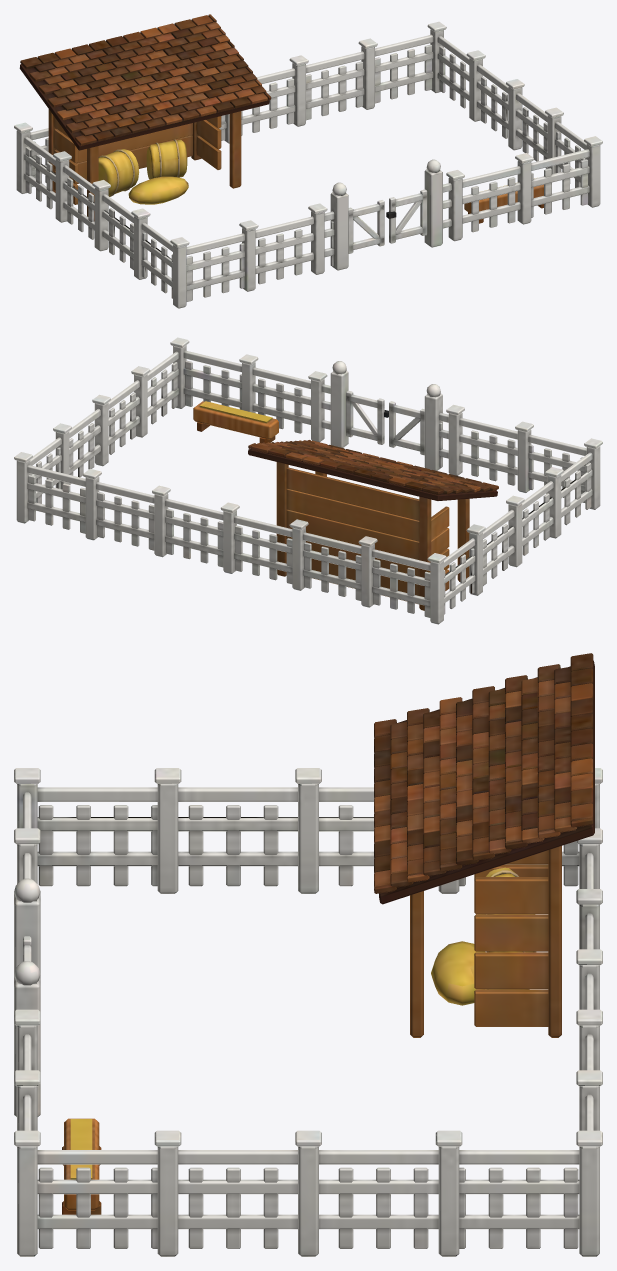
Rendered from jacob_fold.glb.
The picture shows the model from 3 angles, top to bottom: view 1: azimuth 30°, elevation 25°; view 2: azimuth 150°, elevation 25°; view 3: azimuth 270°, elevation 25°; orthographic projection. The views are drawn at different scales.
Parts seen in each view (by area): view 1: jacob_fold, gate1, gate0; view 2: jacob_fold, gate1, gate0; view 3: jacob_fold.
Boxes of the visible parts, x1=… form: jacob_fold: x1=14, y1=14, x2=602, y2=308; gate1: x1=386, y1=189, x2=427, y2=243; gate0: x1=348, y1=200, x2=384, y2=253; jacob_fold: x1=14, y1=337, x2=602, y2=624; gate1: x1=346, y1=390, x2=388, y2=444; gate0: x1=389, y1=401, x2=424, y2=455; jacob_fold: x1=14, y1=653, x2=602, y2=1256.
Size of the model in its own units: 2.99 by 0.9342 by 1.99.
1 material, 1 textured.
